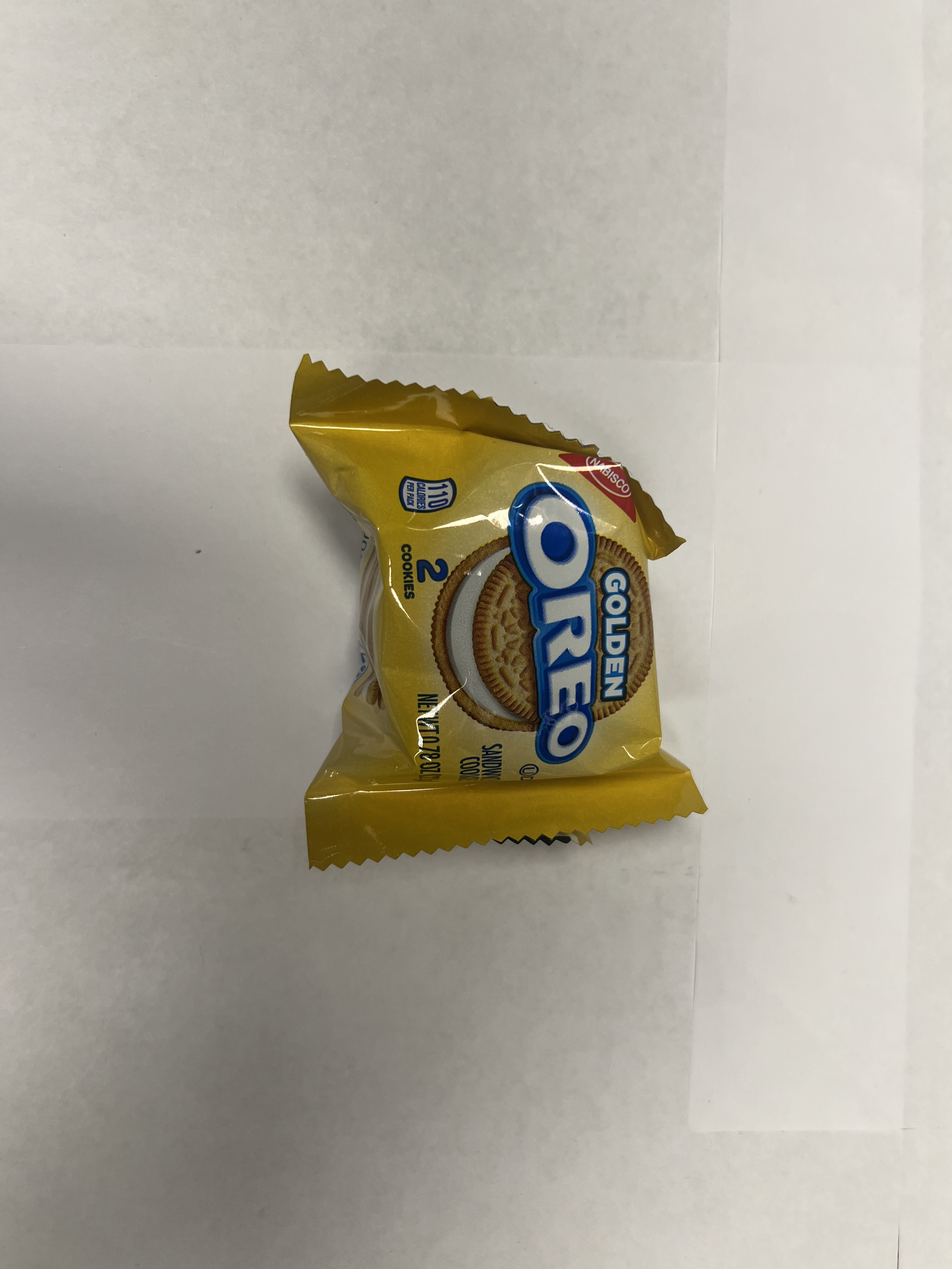packaged: (286, 349, 712, 880)
